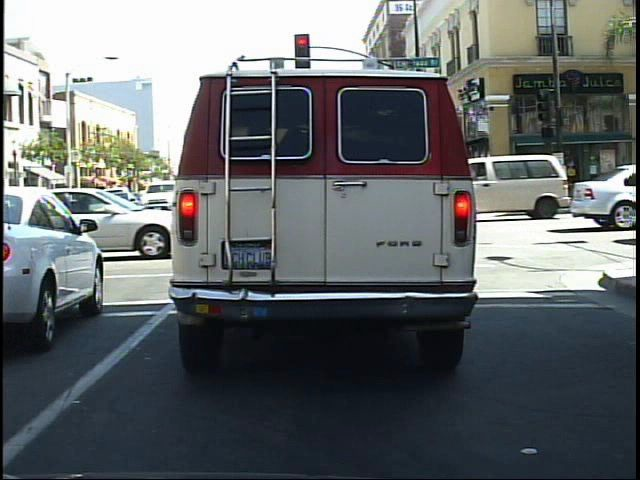person: (536, 154, 563, 215), (516, 157, 541, 215), (483, 156, 503, 214), (493, 165, 512, 212)
